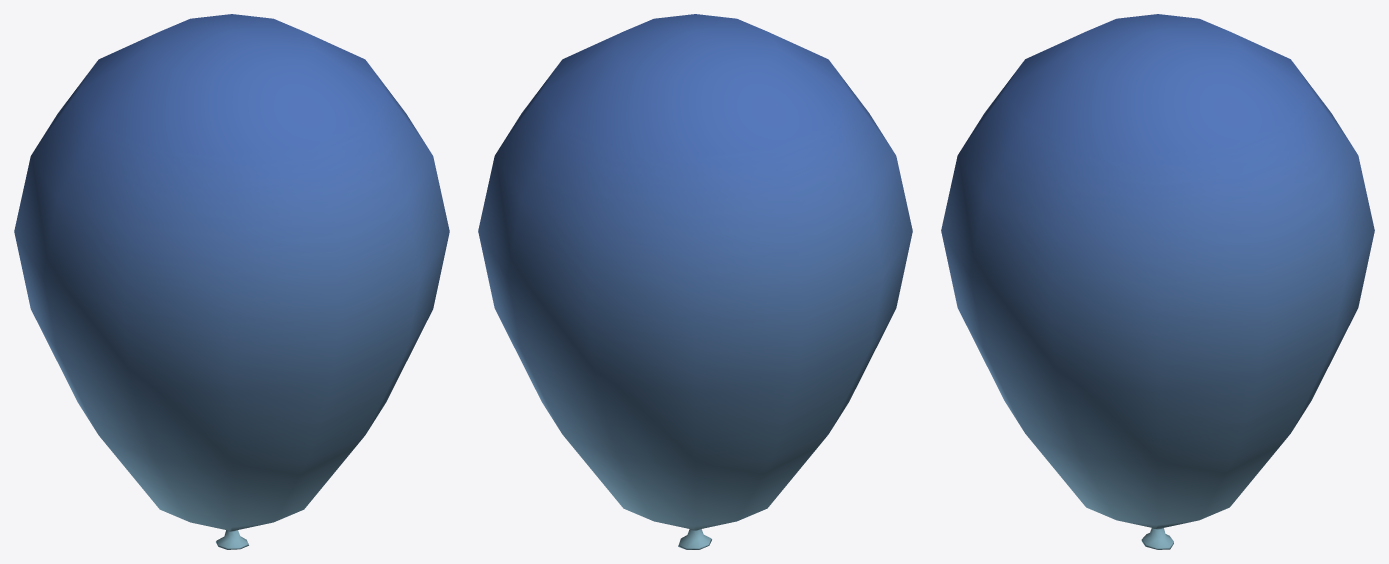
File: SM_balloon_blue_dark.fbx
The picture shows the model from 3 angles, left to right: view 1: azimuth 30°, elevation 25°; view 2: azimuth 150°, elevation 25°; view 3: azimuth 270°, elevation 25°; orthographic projection.
Parts seen in each view (by area): view 1: Cube.038; view 2: Cube.038; view 3: Cube.038.
Part boxes in pixels (x1,y1,x2,y2): Cube.038: [14, 14, 449, 549]; Cube.038: [478, 14, 912, 549]; Cube.038: [941, 14, 1374, 549].
Bounding box in the file's own units: 121 × 157 × 121.
